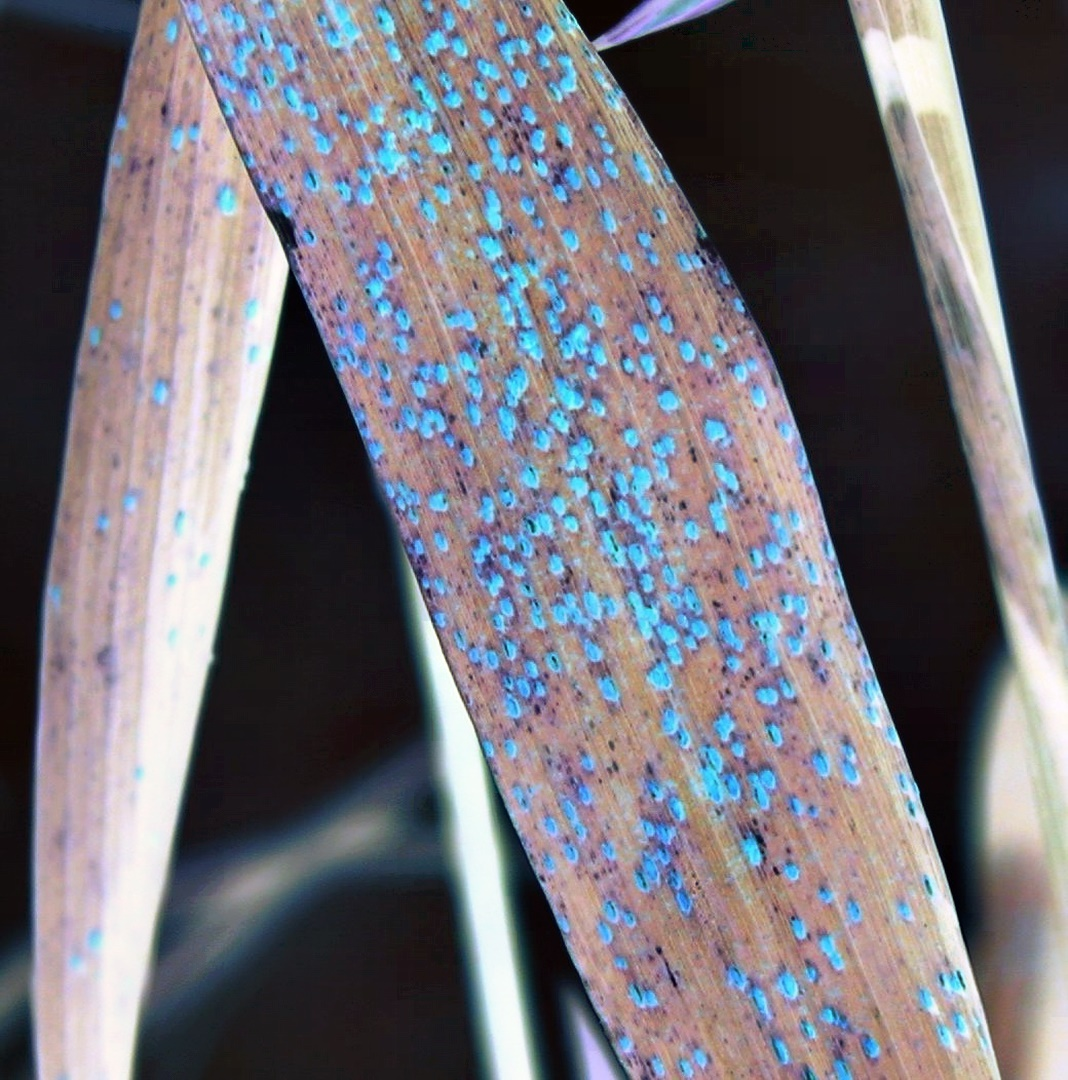Leaf Rust: (292, 59, 905, 944)
